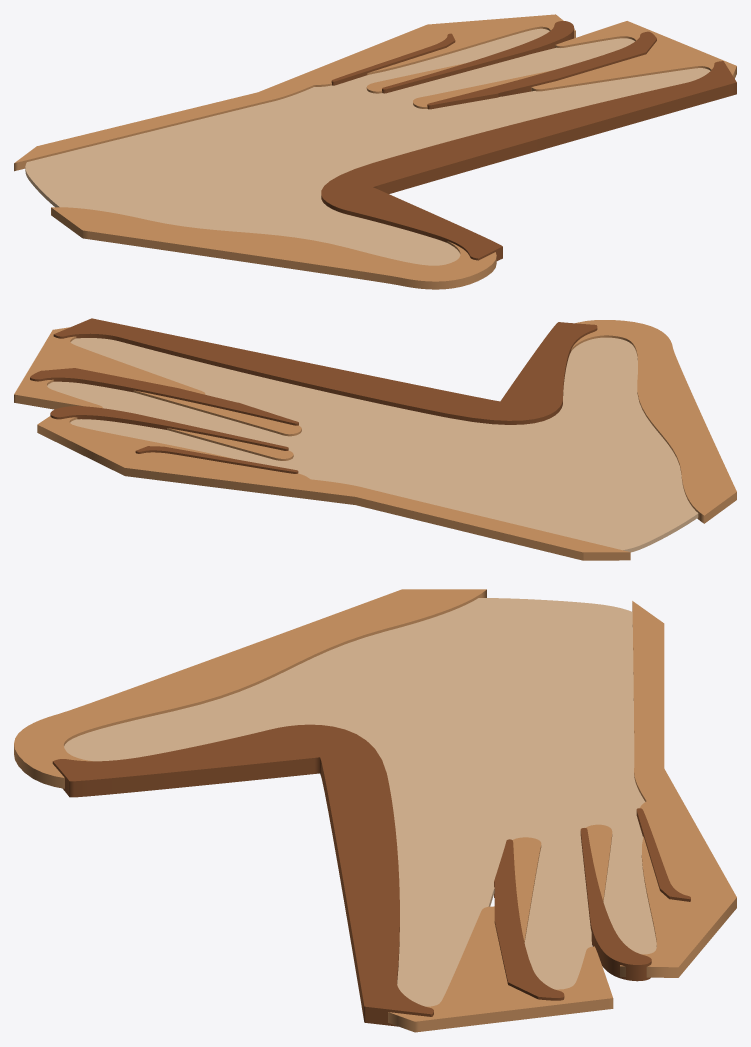
File: emoji_u1faf3_1f3fc.glb
The picture shows the model from 3 angles, top to bottom: view 1: azimuth 30°, elevation 25°; view 2: azimuth 150°, elevation 25°; view 3: azimuth 270°, elevation 25°; orthographic projection. The views are drawn at different scales.
Parts seen in each view (by area): view 1: emoji_u1faf3_1f3fc; view 2: emoji_u1faf3_1f3fc; view 3: emoji_u1faf3_1f3fc.
Part boxes in pixels (x1=…): emoji_u1faf3_1f3fc: x1=14, y1=14, x2=736, y2=289; emoji_u1faf3_1f3fc: x1=14, y1=318, x2=736, y2=560; emoji_u1faf3_1f3fc: x1=14, y1=589, x2=736, y2=1032.
Size of the model in its own units: 0.0345 by 0.0006 by 0.0244.
